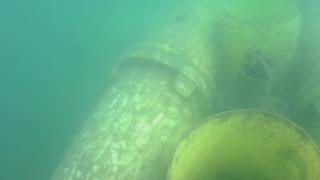pipe: (48, 1, 219, 179), (164, 107, 320, 180), (216, 1, 300, 110), (302, 1, 320, 119)
